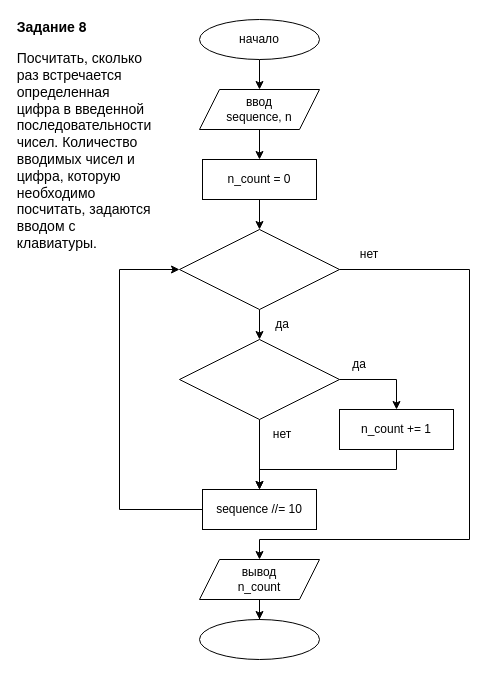
This 495x677 diagram has some shape labels left out. The shapes that lost their labels are listed below. From the top down, each one's box as (x1, y1, x2, y2) in pixels, then its label:
(178, 228, 340, 310): sequence != 0
(178, 338, 340, 420): sequence % 10 == n
(198, 618, 320, 660): конец
